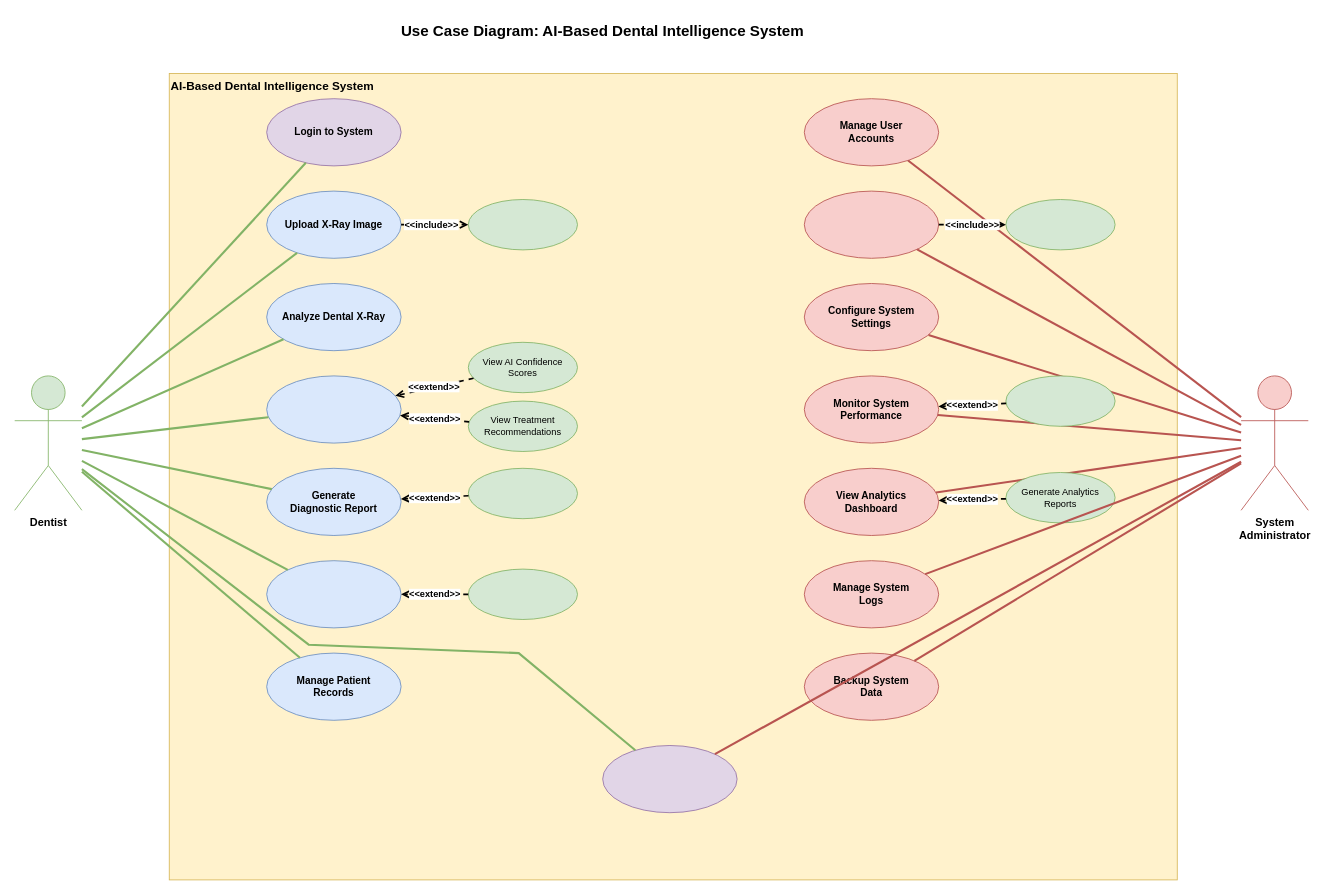
The diagram is 1325 pixels wide and 895 high, and some of its shapes have lost their labels. Here are the shapes that lost their labels. From the top down, the box of each, then its label:
(467, 199, 578, 250): Validate Image Format & Size
(803, 190, 939, 258): Deploy Model Updates
(1005, 199, 1115, 250): Manage AI Model Repository
(266, 375, 401, 443): View Diagnostic Results
(1005, 375, 1115, 426): View Performance Metrics
(467, 467, 578, 519): Export Report to PDF
(266, 560, 401, 628): Access Patient History
(467, 568, 578, 620): Compare with Previous Scans
(602, 745, 737, 813): View System Notifications
